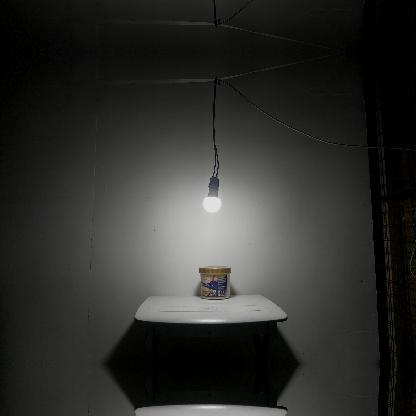Lady-s-Choice: (198, 264, 232, 300)
